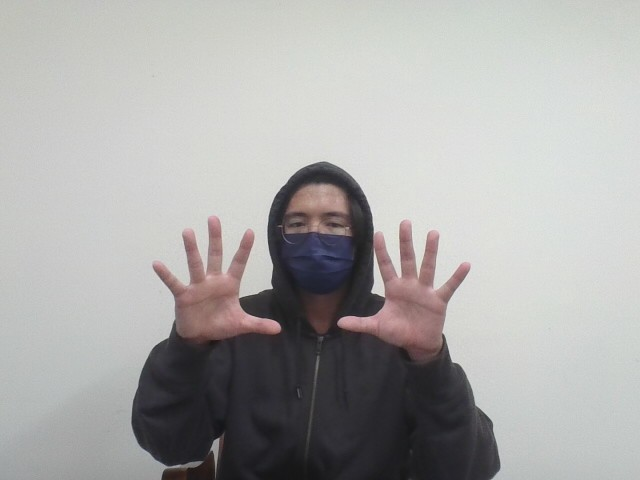No_Gloves: (351, 213, 477, 365), (146, 209, 277, 351)
No_Helmet: (262, 156, 377, 298)
person: (119, 138, 523, 479)
